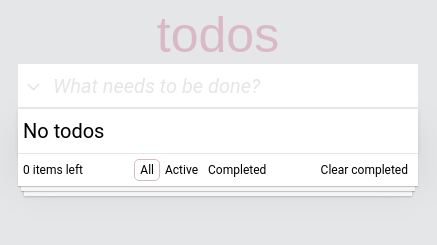
Test: Todo App › shows validation errors
# Слишком короткий ввод
Step 1. Type "A" into the field with placeholder "What needs to be done?" → (218, 86), box [18, 64, 418, 109]
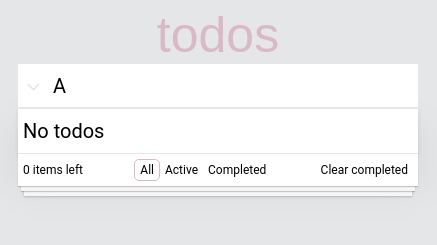
Step 2. Press Enter
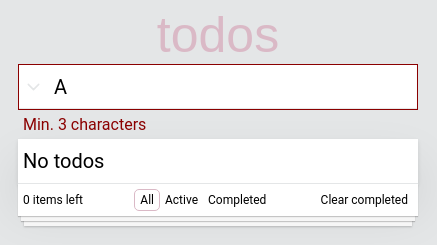
Check: the text "Min. 3 characters" is shown, box [23, 115, 146, 134]
